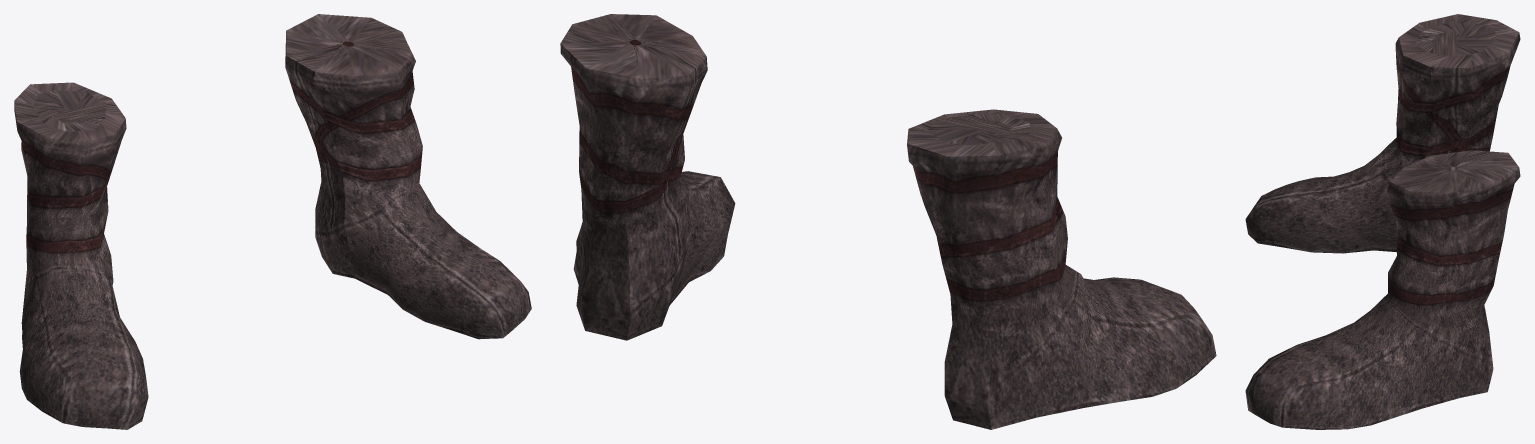
Rendered from boots_01.fbx.
The picture shows the model from 3 angles, left to right: view 1: azimuth 30°, elevation 25°; view 2: azimuth 150°, elevation 25°; view 3: azimuth 270°, elevation 25°; orthographic projection. The views are drawn at different scales.
Parts seen in each view (by area): view 1: F_Human_01_Boots; view 2: F_Human_01_Boots; view 3: F_Human_01_Boots.
Part boxes in pixels (x1,y1,x2,y2): F_Human_01_Boots: (14,14,531,429); F_Human_01_Boots: (560,14,1216,429); F_Human_01_Boots: (1245,14,1520,429).
Size of the model in its own units: 66.89 by 31.39 by 35.03.
Materials: 1 (1 with a texture image).
